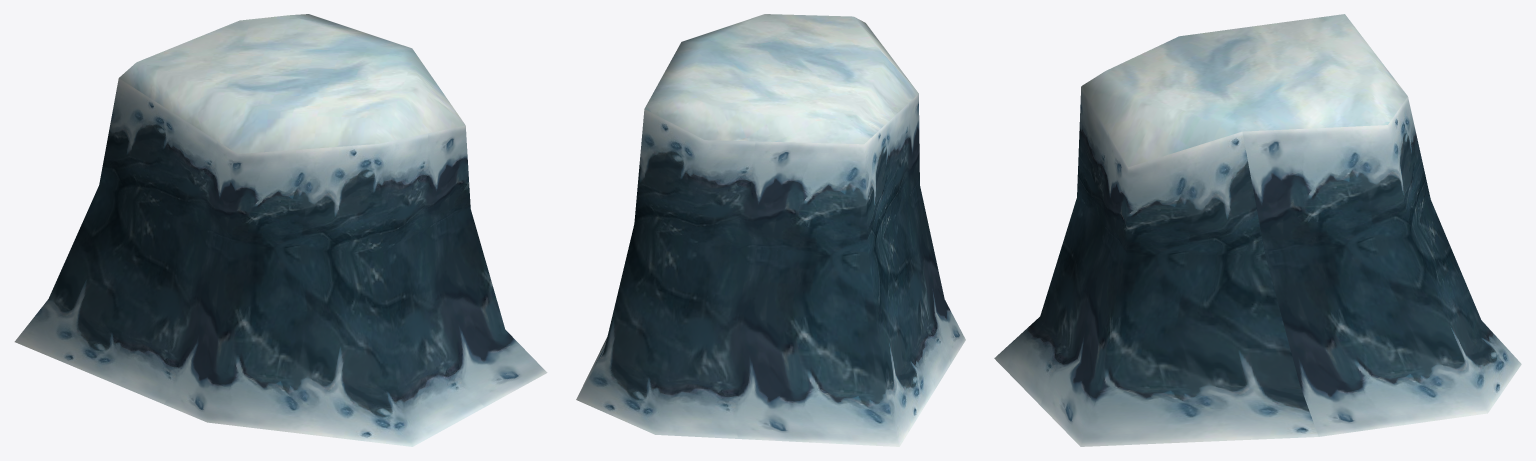
File: 3-1_dibianshi1.FBX
The picture shows the model from 3 angles, left to right: view 1: azimuth 30°, elevation 25°; view 2: azimuth 150°, elevation 25°; view 3: azimuth 270°, elevation 25°; orthographic projection. The views are drawn at different scales.
Parts seen in each view (by area): view 1: 3-1_dibianshi1; view 2: 3-1_dibianshi1; view 3: 3-1_dibianshi1.
Part boxes in pixels (x1,y1,x2,y2): 3-1_dibianshi1: (14,14,547,446); 3-1_dibianshi1: (576,14,965,446); 3-1_dibianshi1: (994,14,1521,446).
Size of the model in its own units: 2689 by 1989 by 3258.
